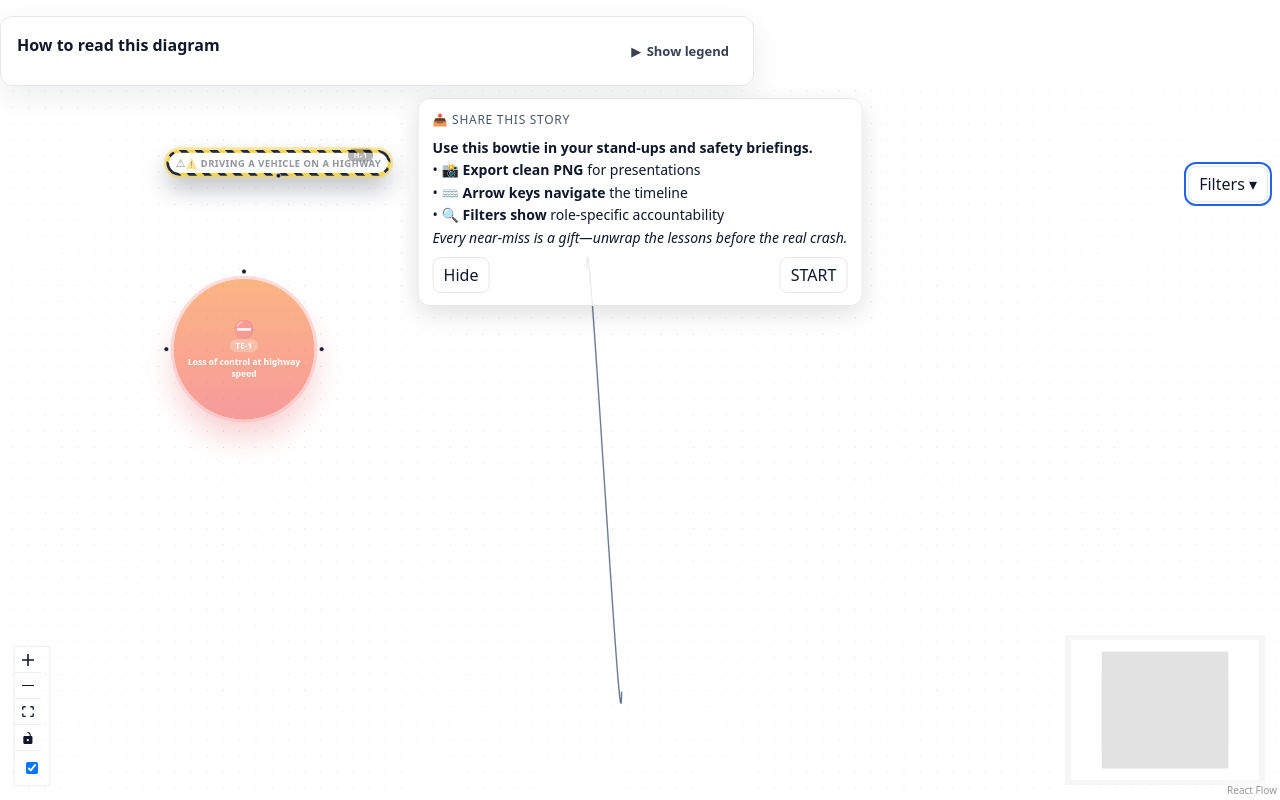
Filters panel Clear button state › is disabled initially, enabled after selecting a role, and disabled again after clearing
The image size is (1280, 800).
Open Filters panel
Step 1. Click the button "Filters ▾" → [1228, 184], box [1188,166,1268,202]
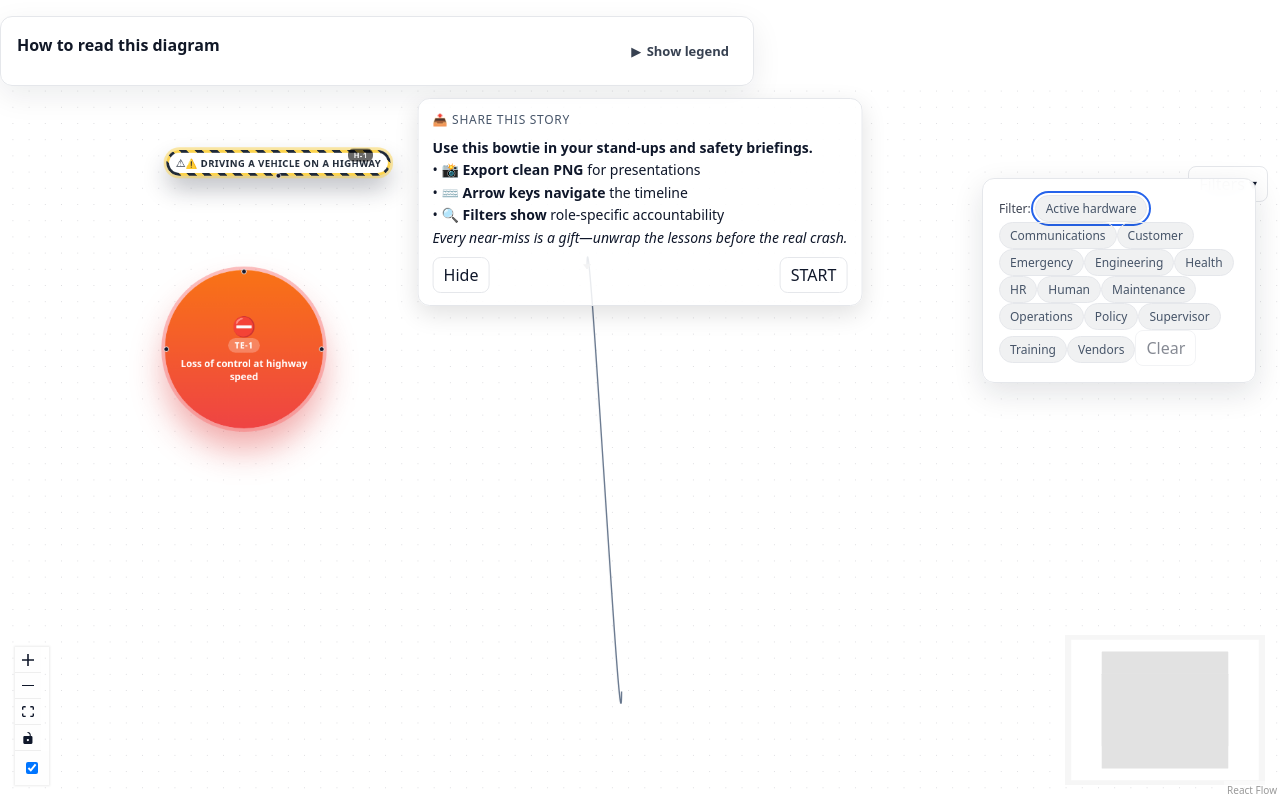
Expected: the button "Clear" is disabled, [1135,330,1196,366]
Expected: the button "Active hardware" is shown
Step 2. Click the button "Active hardware" → [1091, 208], box [1035,195,1147,222]
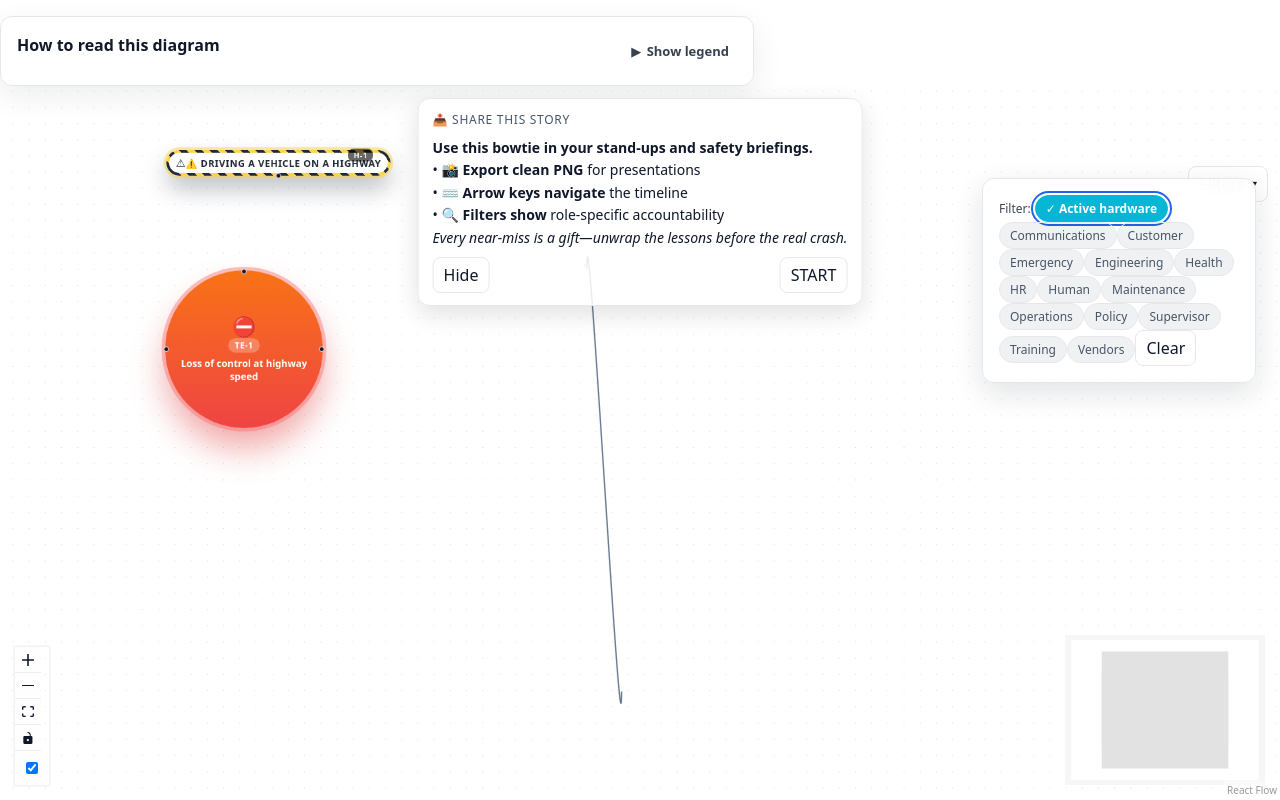
Expected: the button "Clear" is enabled
Click Clear and verify disabled again
Step 3. Click the button "Clear" → [1166, 348], box [1135,330,1196,366]
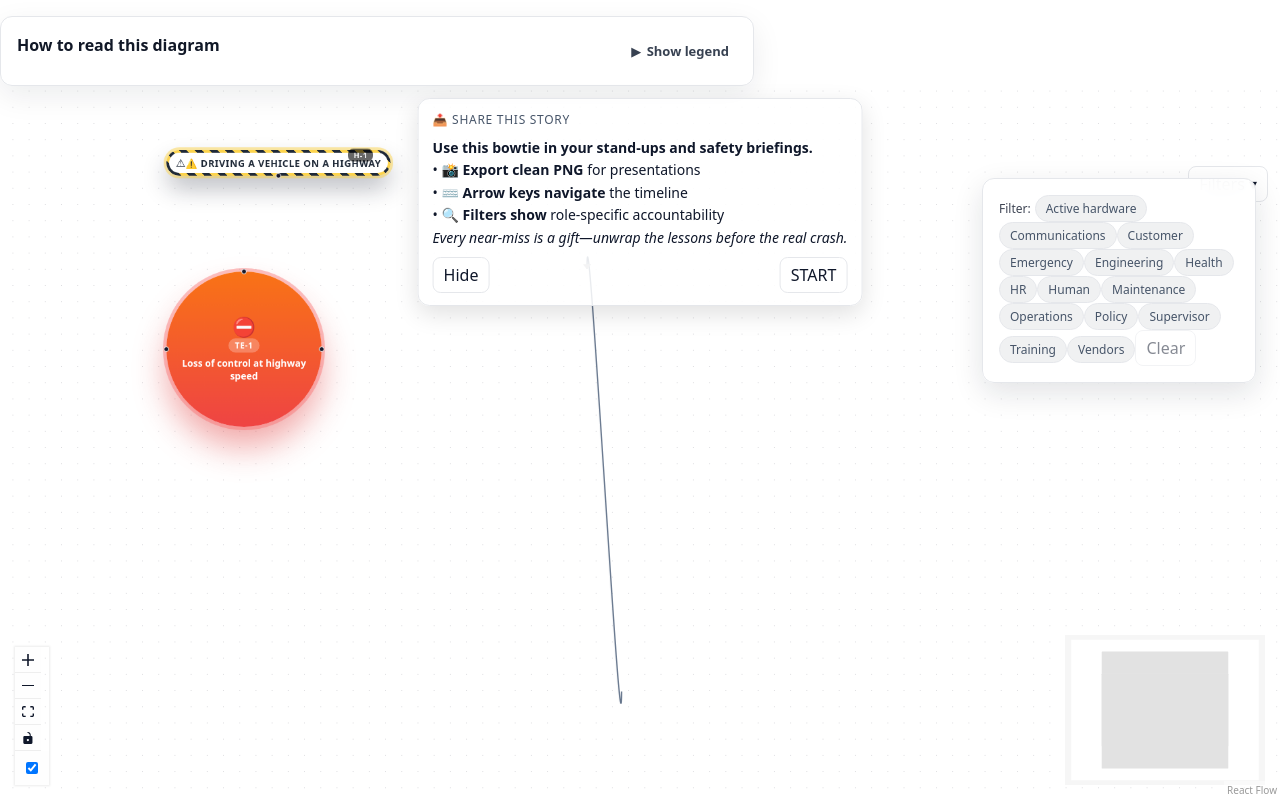
Expected: the button "Clear" is disabled, [1135,330,1196,366]
